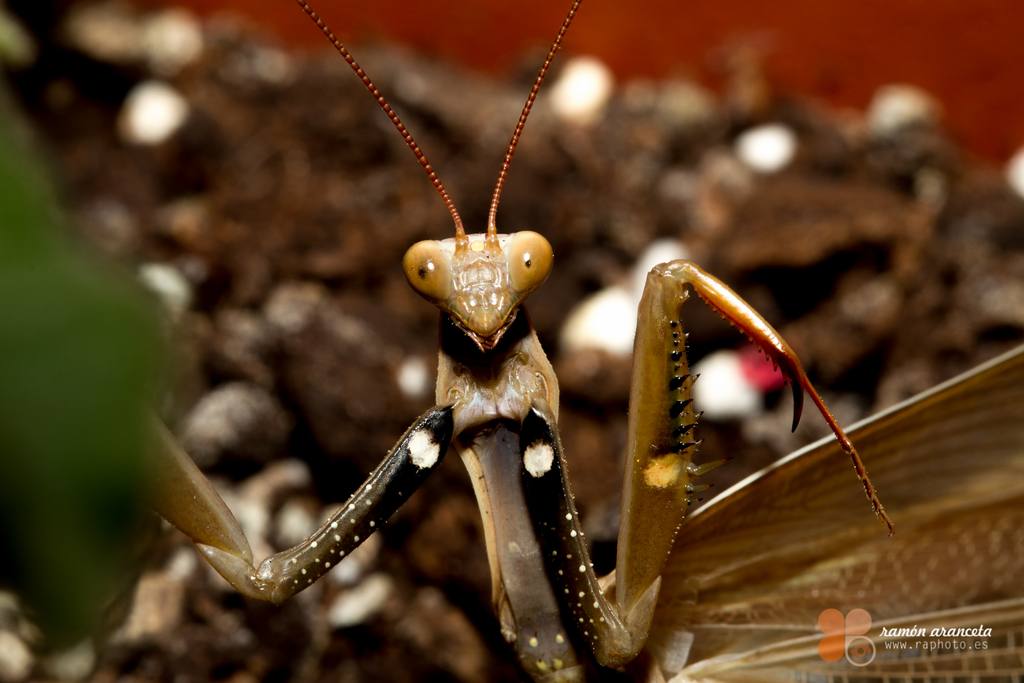person: (173, 378, 326, 566)
